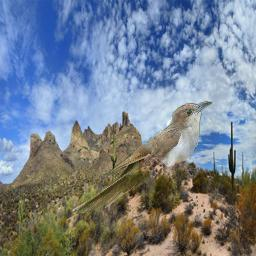Cuckoo: (71, 101, 213, 214)
